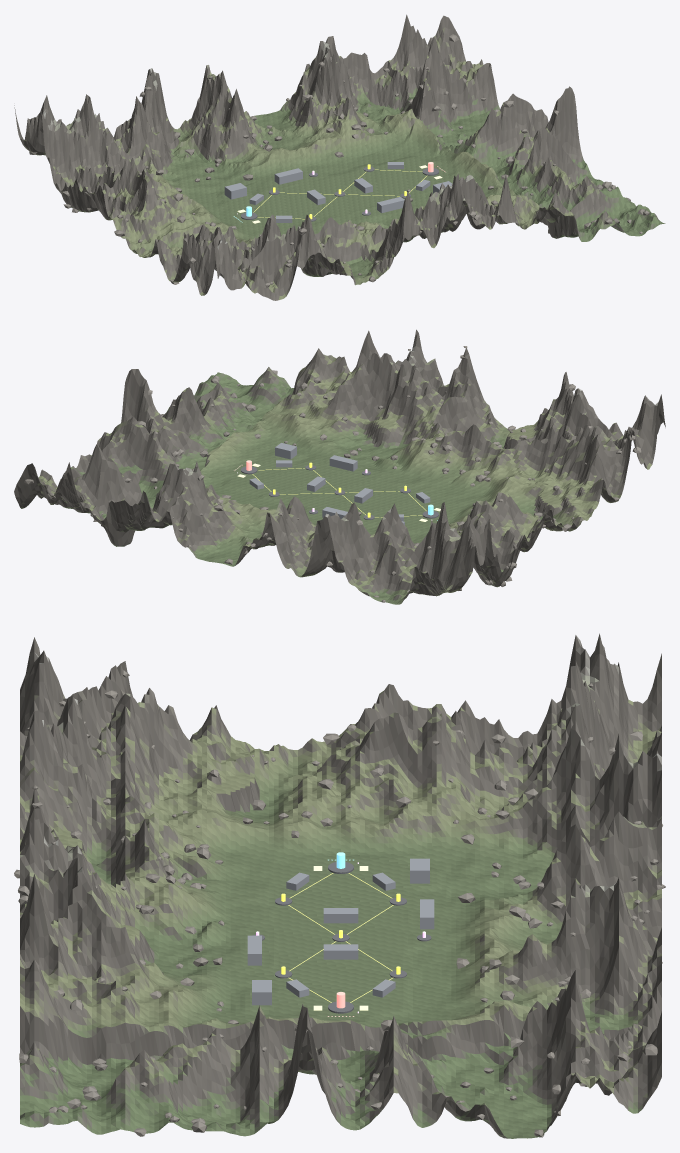
File: lattice.glb
3 views of the same model, one above another, from view 1: azimuth 30°, elevation 25°; view 2: azimuth 150°, elevation 25°; view 3: azimuth 270°, elevation 25° (orthographic). The views are drawn at different scales.
Visible parts, largest first — view 1: terrain; view 2: terrain; view 3: terrain.
Boxes of the visible parts, box(x1,y1,x2,y2) form: terrain: box(14, 14, 665, 300); terrain: box(14, 329, 665, 604); terrain: box(20, 633, 661, 1138).
Bounding box in the file's own units: 575 × 135 × 454.
